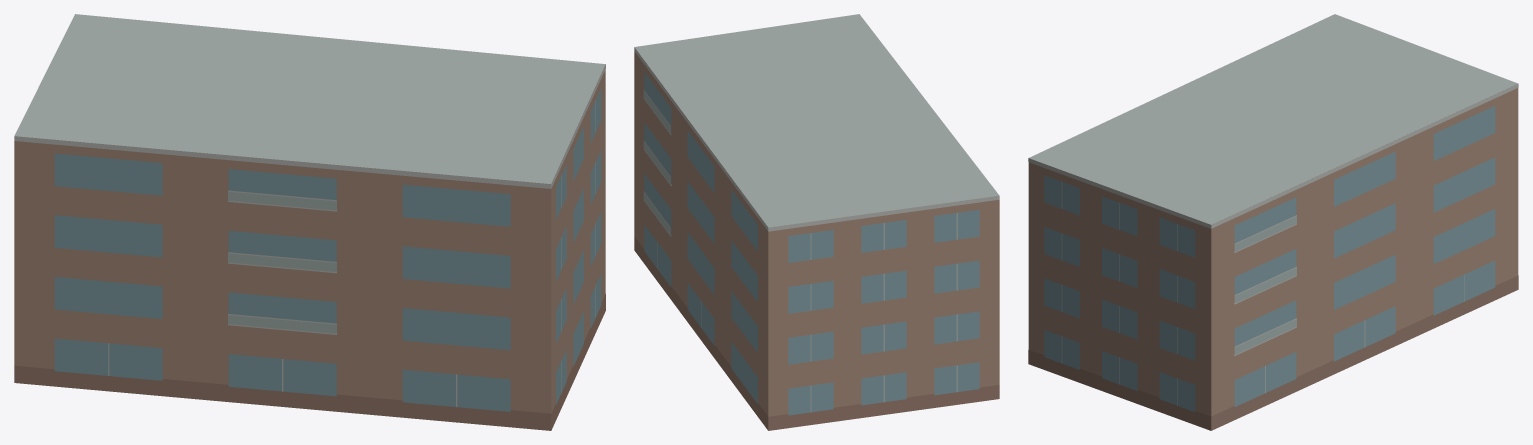
Rendered from survey-upis-32523624.glb.
3 views of the same model, side by side, from view 1: azimuth 30°, elevation 25°; view 2: azimuth 150°, elevation 25°; view 3: azimuth 270°, elevation 25° (orthographic). The views are drawn at different scales.
Visible parts, largest first — view 1: survey-upis-32523624.tmp; view 2: survey-upis-32523624.tmp; view 3: survey-upis-32523624.tmp.
Part boxes in pixels (x1,y1,x2,y2): survey-upis-32523624.tmp: [14, 14, 605, 430]; survey-upis-32523624.tmp: [634, 14, 999, 430]; survey-upis-32523624.tmp: [1028, 14, 1518, 430].
Bounding box in the file's own units: 27.22 × 12.4 × 26.73.
